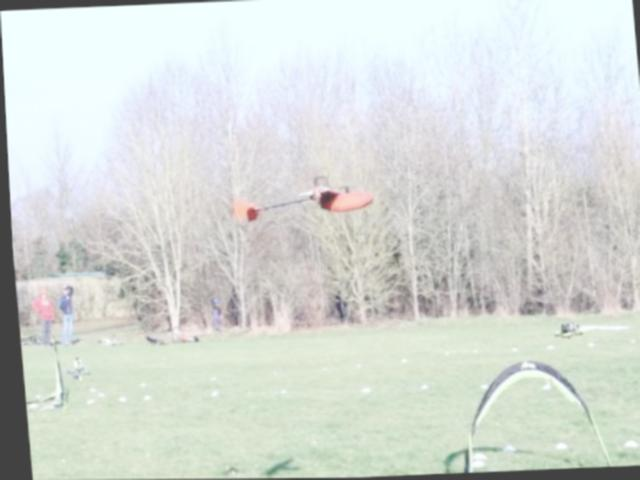uav: (214, 167, 386, 233)
